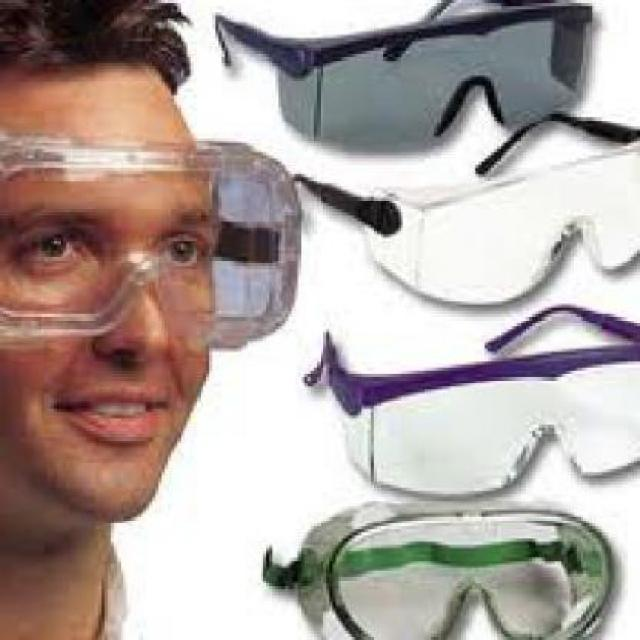Goggles: (2, 128, 307, 371), (303, 112, 640, 303), (307, 321, 640, 501), (207, 2, 596, 136), (265, 500, 634, 640)
